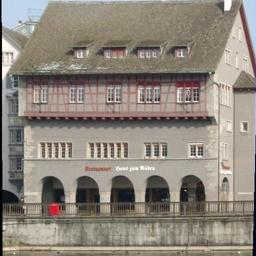building: (7, 0, 242, 219)
